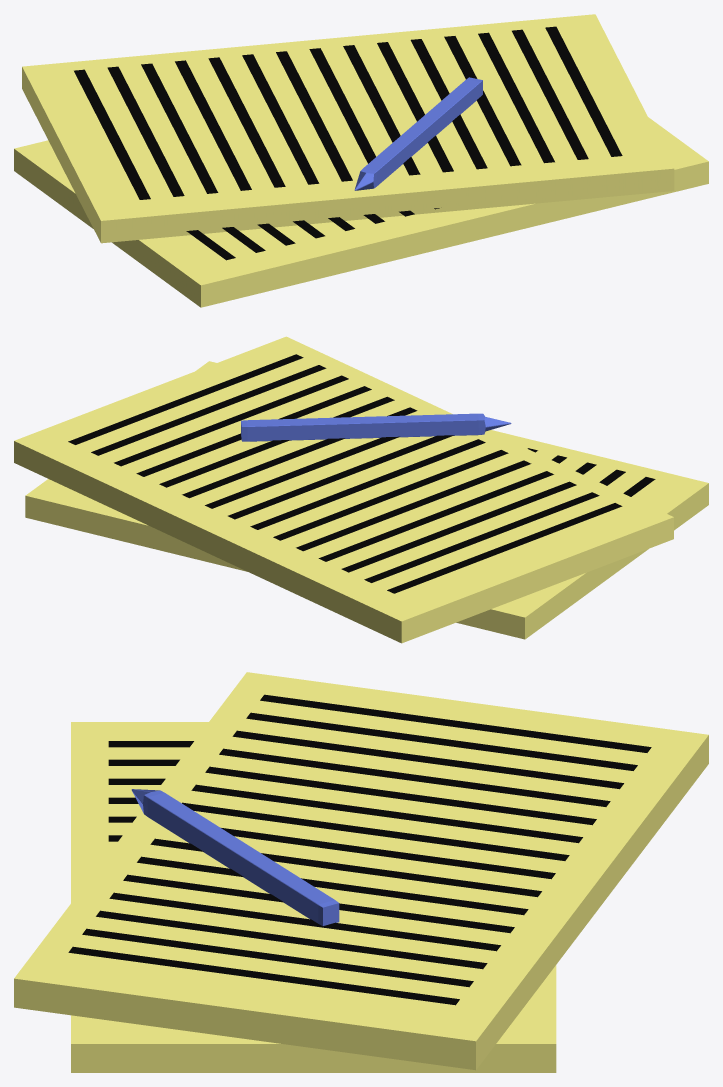
Rendered from notepad.fbx.
3 views of the same model, one above another, from view 1: azimuth 30°, elevation 25°; view 2: azimuth 150°, elevation 25°; view 3: azimuth 270°, elevation 25° (orthographic). The views are drawn at different scales.
Visible parts, largest first — view 1: Cube.003, Cube, Plane.001, Cube.002, Plane; view 2: Cube.003, Plane.001, Cube, Cube.002, Plane; view 3: Cube.003, Plane.001, Cube, Cube.002, Plane.
Part boxes in pixels (left/top/right/bottom): Cube.003: left=22, top=14, right=674, bottom=243; Cube: left=14, top=117, right=708, bottom=307; Plane.001: left=74, top=26, right=622, bottom=199; Cube.002: left=354, top=77, right=482, bottom=190; Plane: left=186, top=208, right=439, bottom=260; Cube.003: left=14, top=336, right=673, bottom=643; Plane.001: left=68, top=354, right=622, bottom=593; Cube: left=25, top=361, right=708, bottom=639; Cube.002: left=241, top=413, right=511, bottom=441; Plane: left=527, top=448, right=655, bottom=496; Cube.003: left=14, top=672, right=708, bottom=1070; Plane.001: left=68, top=694, right=651, bottom=1005; Cube: left=71, top=722, right=556, bottom=1072; Cube.002: left=131, top=789, right=339, bottom=925; Plane: left=108, top=741, right=193, bottom=841.
Bounding box in the file's own units: 360 × 38.12 × 286.
